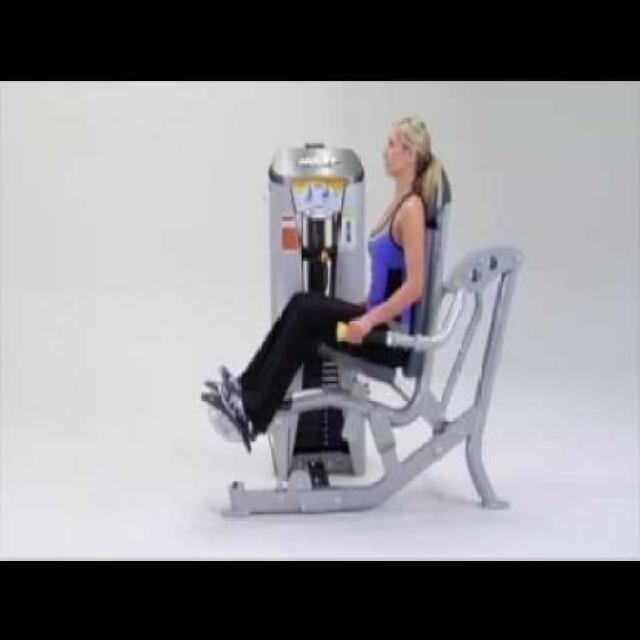seated dip machine: (200, 115, 523, 517)
